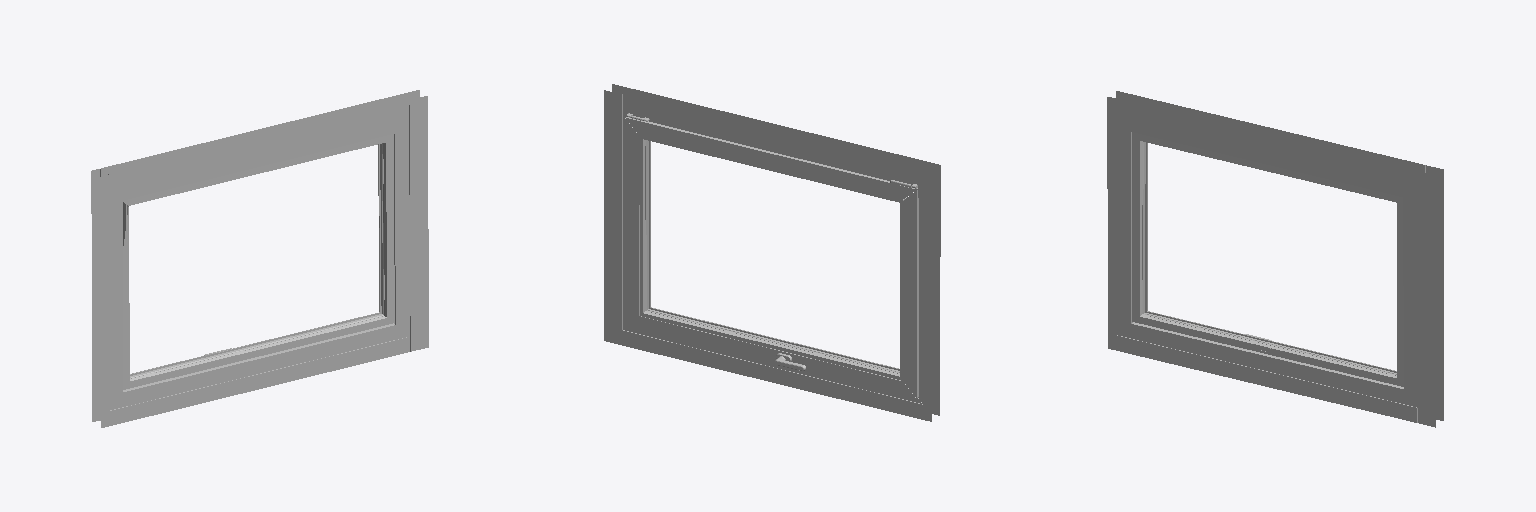
File: janela2.obj
3 renders of one model, left to right at view 1: azimuth 30°, elevation 25°; view 2: azimuth 150°, elevation 25°; view 3: azimuth 330°, elevation 25°, orthographic.
Parts seen in each view (by area): view 1: #WIN0003_Frame_#WIN0003_Textures_0, #WIN0003_Window_#WIN0003_Textures_0; view 2: #WIN0003_Frame_#WIN0003_Textures_0, #WIN0003_Window_#WIN0003_Textures_0; view 3: #WIN0003_Frame_#WIN0003_Textures_0, #WIN0003_Window_#WIN0003_Textures_0.
Boxes of the visible parts, box(x1,y1,x2,y2) form: #WIN0003_Frame_#WIN0003_Textures_0: box(91, 90, 428, 427); #WIN0003_Window_#WIN0003_Textures_0: box(123, 134, 394, 390); #WIN0003_Frame_#WIN0003_Textures_0: box(604, 84, 940, 421); #WIN0003_Window_#WIN0003_Textures_0: box(625, 116, 918, 398); #WIN0003_Frame_#WIN0003_Textures_0: box(1107, 91, 1443, 427); #WIN0003_Window_#WIN0003_Textures_0: box(1132, 132, 1403, 387).
Size of the model in its own units: 1.42 by 1.04 by 0.1285.